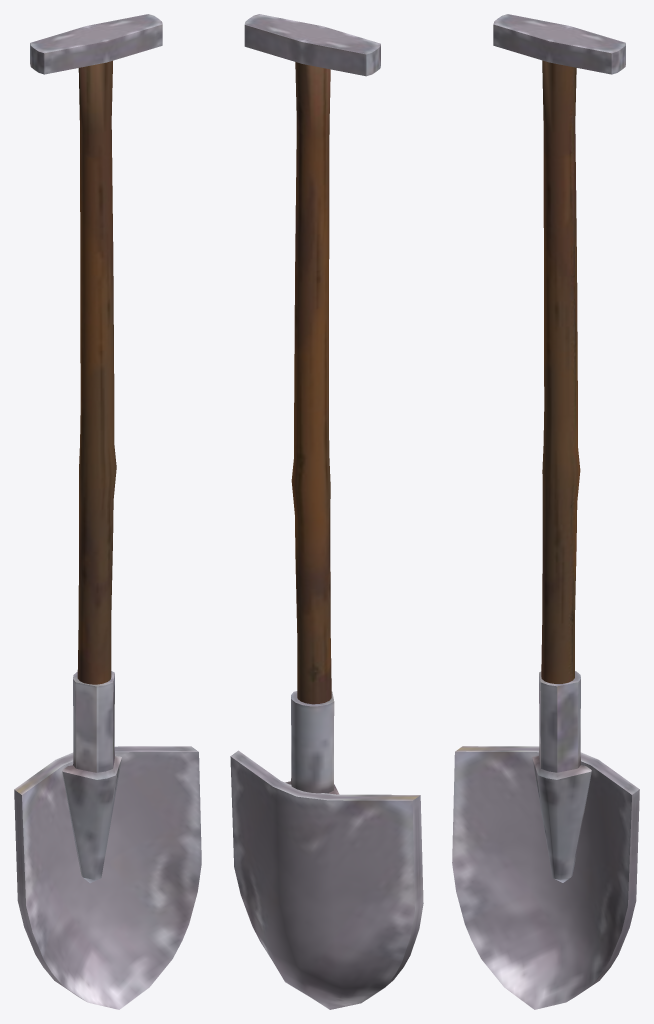
File: Shovel_Steel.gltf
The picture shows the model from 3 angles, left to right: view 1: azimuth 30°, elevation 25°; view 2: azimuth 150°, elevation 25°; view 3: azimuth 330°, elevation 25°; orthographic projection. The views are drawn at different scales.
Visible parts, largest first — view 1: Shovel_Steel; view 2: Shovel_Steel; view 3: Shovel_Steel.
Boxes of the visible parts, x1,y1,x2,y2 form: Shovel_Steel: (14, 14, 201, 1009); Shovel_Steel: (230, 14, 423, 1009); Shovel_Steel: (452, 14, 639, 1009).
Bounding box in the file's own units: 0.2871 × 1.49 × 0.1145.
1 material, 1 textured.
